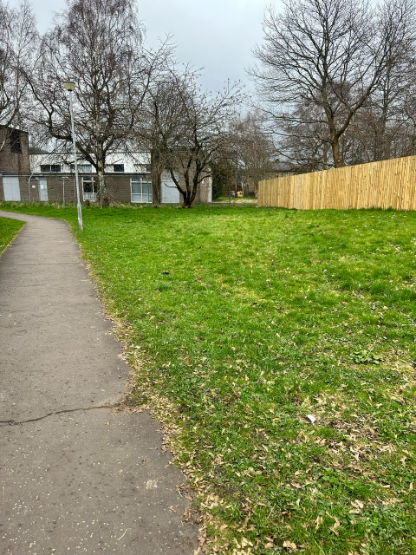tree: (247, 2, 387, 173), (18, 0, 144, 189), (147, 69, 215, 198)
